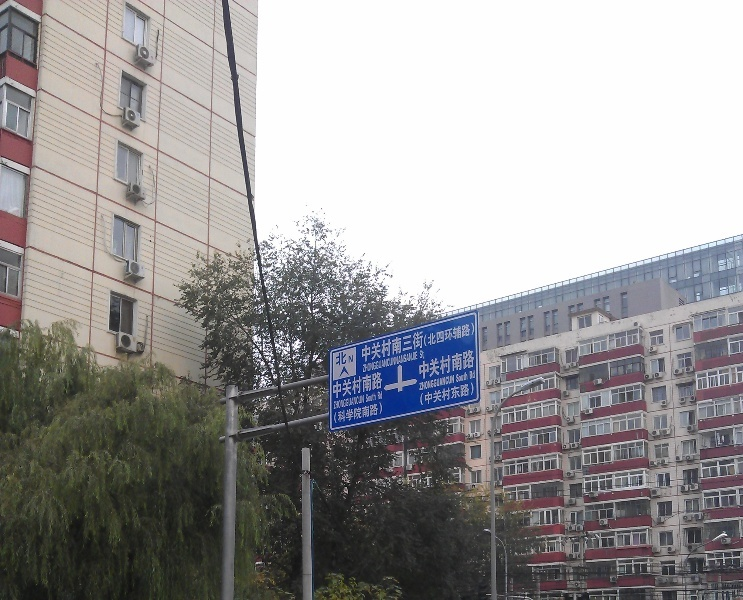text: (369, 317, 384, 363), (385, 317, 400, 363), (401, 317, 416, 363), (417, 317, 432, 363), (433, 317, 448, 363), (449, 317, 464, 363), (433, 349, 448, 380), (449, 349, 464, 380), (465, 317, 475, 363), (337, 372, 352, 399), (353, 372, 368, 399), (419, 349, 432, 380), (369, 372, 383, 399), (433, 382, 448, 406), (449, 382, 464, 406), (337, 402, 352, 424), (353, 402, 368, 424), (369, 351, 384, 373), (385, 351, 400, 373), (401, 351, 416, 373), (465, 349, 475, 380), (369, 402, 383, 424), (420, 382, 432, 406), (362, 317, 368, 363), (337, 350, 352, 367), (433, 375, 448, 391), (337, 395, 352, 410), (465, 382, 474, 406), (419, 375, 432, 391), (353, 395, 365, 410), (419, 349, 432, 360), (362, 351, 368, 373), (470, 370, 480, 380), (449, 375, 455, 391), (456, 372, 464, 383), (369, 392, 377, 403), (333, 372, 336, 399), (377, 391, 384, 400), (333, 395, 336, 410), (334, 402, 336, 424), (417, 351, 419, 373), (465, 372, 469, 383), (365, 392, 368, 403), (335, 350, 336, 367), (353, 350, 354, 367)
